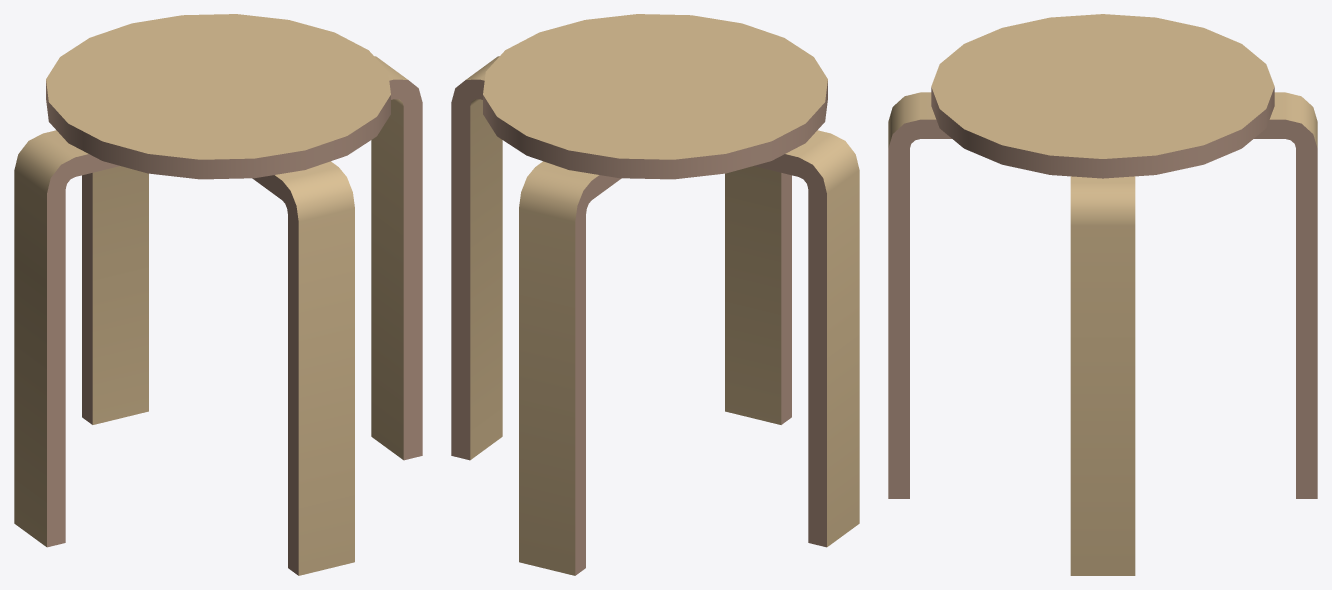
File: stool.dae
3 renders of one model, left to right at view 1: azimuth 30°, elevation 25°; view 2: azimuth 150°, elevation 25°; view 3: azimuth 270°, elevation 25°, orthographic.
Parts seen in each view (by area): view 1: Stool; view 2: Stool; view 3: Stool.
Boxes of the visible parts, left/top/right/bottom form: Stool: left=14, top=14, right=422, bottom=575; Stool: left=451, top=14, right=859, bottom=575; Stool: left=888, top=14, right=1317, bottom=575.
Bounding box in the file's own units: 0.4 × 0.4 × 0.41.
